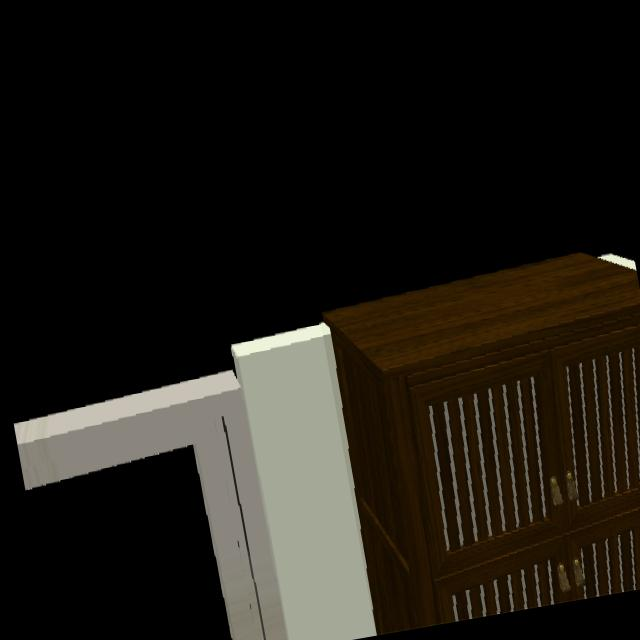wardrobe: (323, 253, 640, 634)
